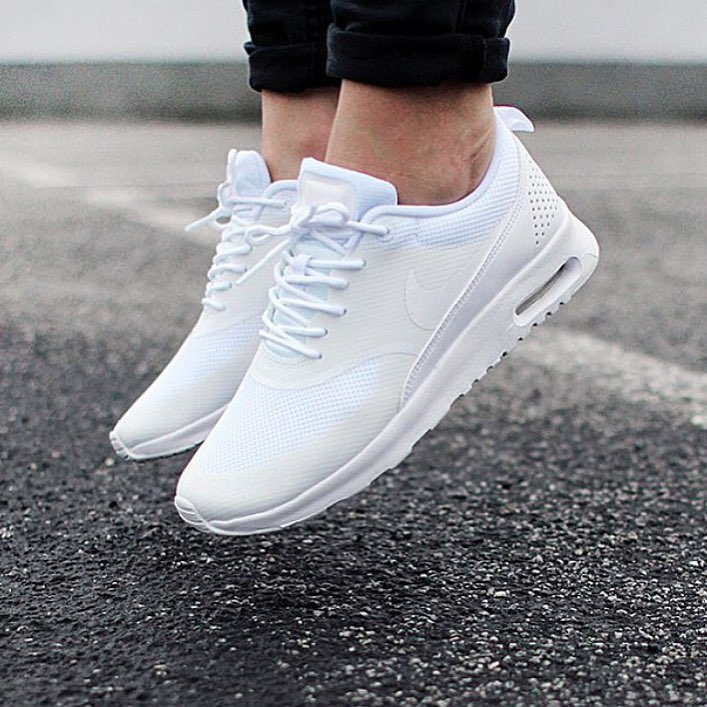sneaker: (160, 66, 625, 572), (95, 61, 354, 495)
